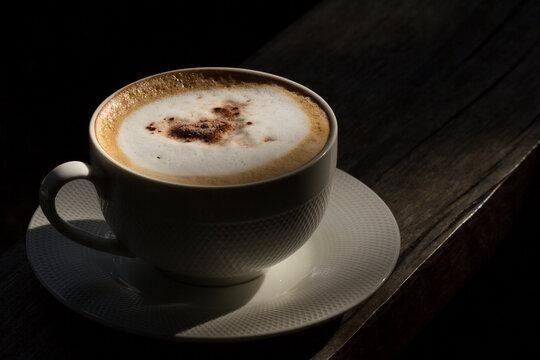cup-handle: (39, 65, 339, 287)
